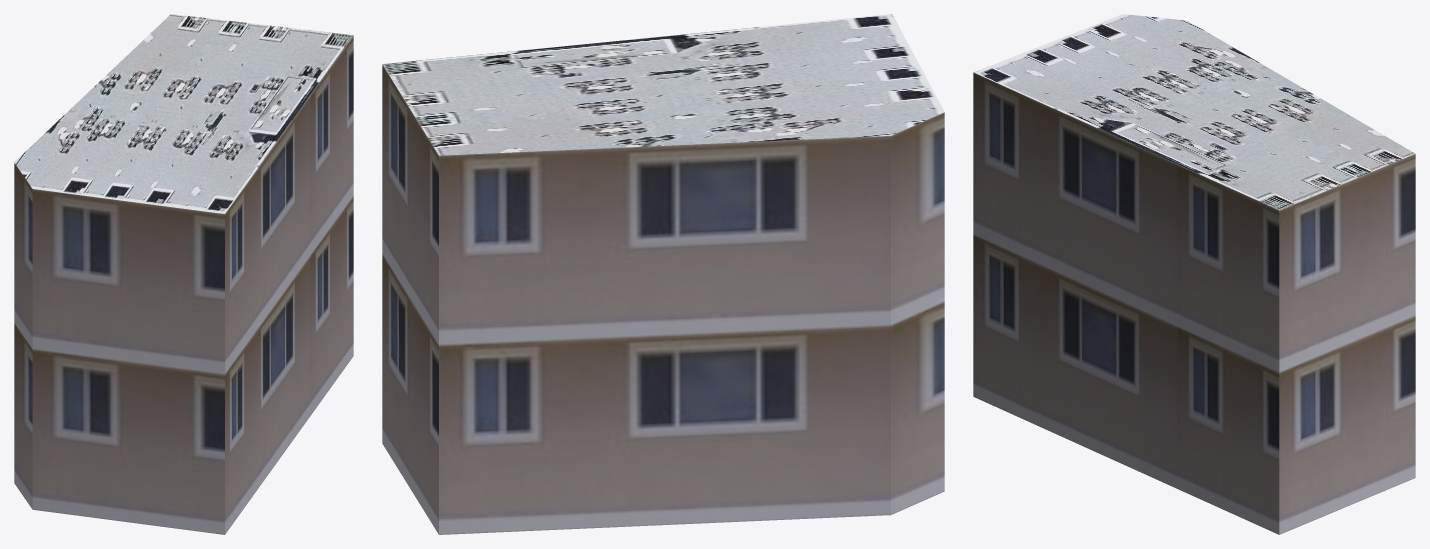
Rendered from ResTex__4281.fbx.
3 views of the same model, side by side, from view 1: azimuth 30°, elevation 25°; view 2: azimuth 150°, elevation 25°; view 3: azimuth 270°, elevation 25° (orthographic). The views are drawn at different scales.
Parts seen in each view (by area): view 1: CityEngineMaterial_21_m, CityEngineMaterial_m; view 2: CityEngineMaterial_21_m, CityEngineMaterial_m; view 3: CityEngineMaterial_21_m, CityEngineMaterial_m.
Boxes of the visible parts, x1=… form: CityEngineMaterial_21_m: x1=14, y1=36, x2=353, y2=534; CityEngineMaterial_m: x1=14, y1=14, x2=353, y2=213; CityEngineMaterial_21_m: x1=382, y1=65, x2=944, y2=534; CityEngineMaterial_m: x1=382, y1=14, x2=944, y2=155; CityEngineMaterial_21_m: x1=973, y1=72, x2=1415, y2=534; CityEngineMaterial_m: x1=974, y1=14, x2=1415, y2=210.
Size of the model in its own units: 7.8 by 6 by 7.41.
2 materials, 2 textured.
